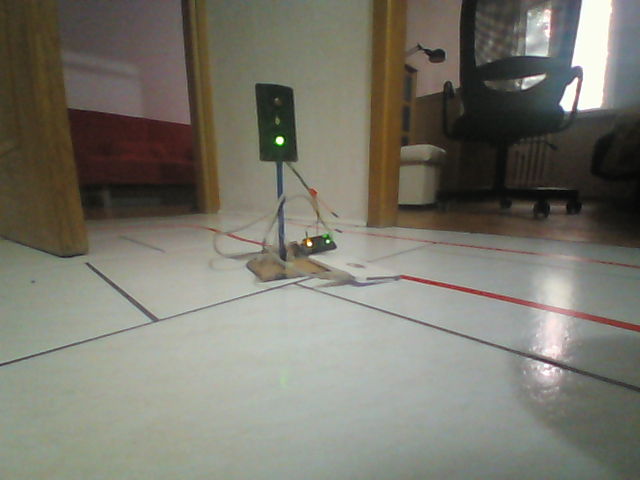green_sign: (249, 78, 301, 164)
